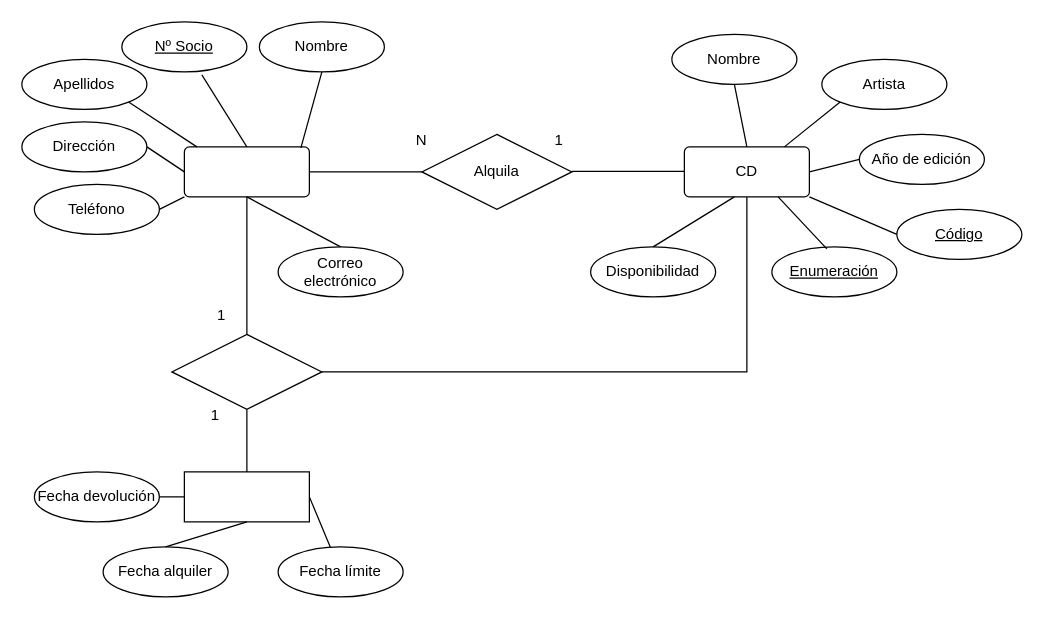
Some shapes in this 1044 by 619 pixel diagram are drawn without their labels. The centre of each missing label's shape, as x and y in pixels:
Cliente: (x=246, y=171)
Historial: (x=246, y=496)
Tiene: (x=246, y=371)
